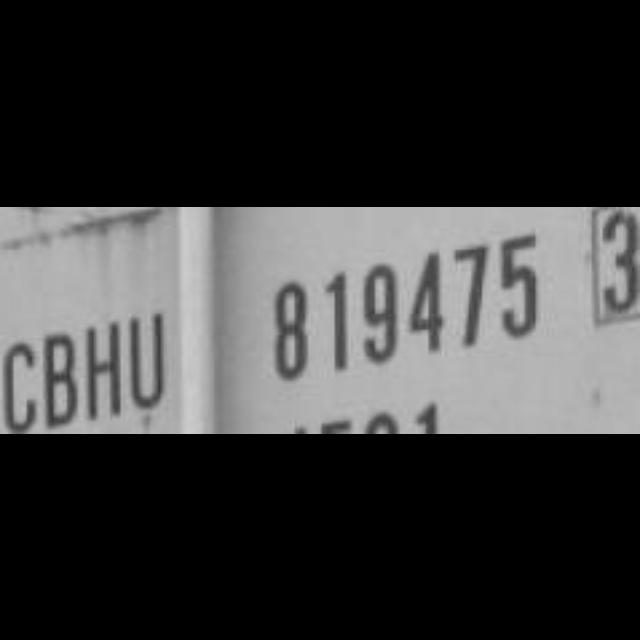1: (322, 260, 358, 380)
3: (592, 206, 640, 322)
4: (402, 242, 448, 366)
5: (498, 226, 544, 348)
7: (448, 235, 494, 355)
8: (270, 273, 316, 389)
9: (357, 255, 403, 379)
b: (40, 328, 80, 432)
c: (0, 332, 40, 433)
h: (82, 313, 126, 429)
u: (125, 302, 168, 414)
